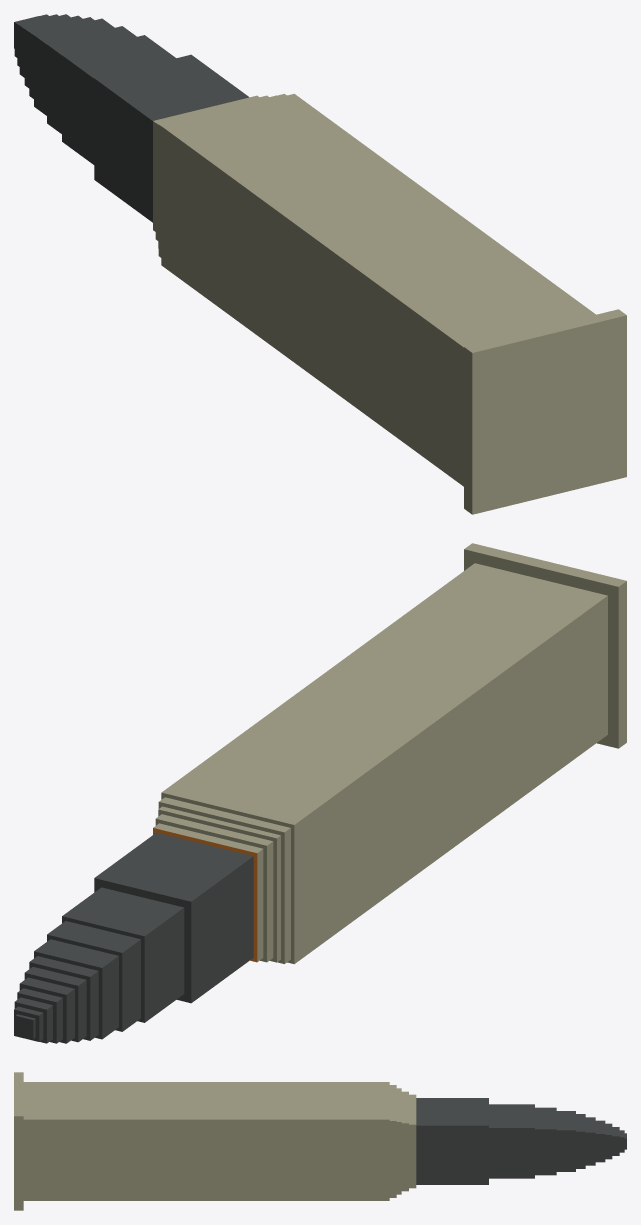
Rendered from BaleBasicProyectile.fbx.
3 renders of one model, top to bottom at view 1: azimuth 30°, elevation 25°; view 2: azimuth 150°, elevation 25°; view 3: azimuth 270°, elevation 25°, orthographic. The views are drawn at different scales.
Visible parts, largest first — view 1: BaleBasic; view 2: BaleBasic; view 3: BaleBasic.
Boxes of the visible parts, box(x1,y1,x2,y2) form: BaleBasic: box(14, 14, 626, 514); BaleBasic: box(14, 543, 626, 1043); BaleBasic: box(14, 1072, 626, 1210).
Bounding box in the file's own units: 2.81 × 16.54 × 2.81.
